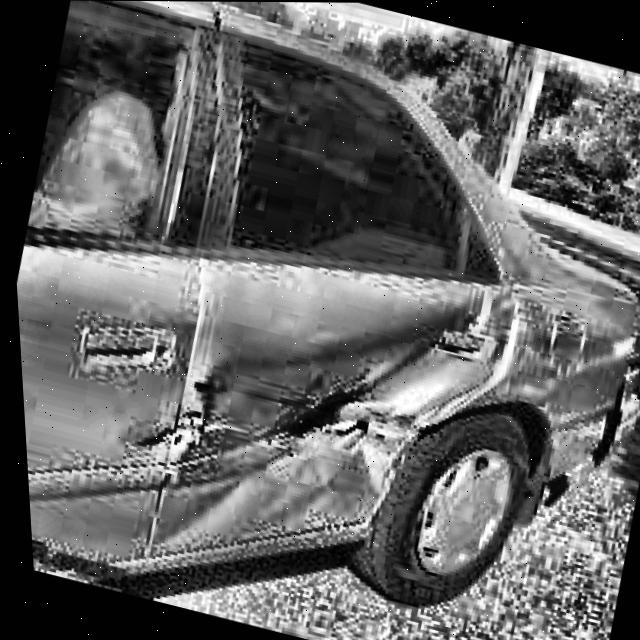door_dent: (261, 368, 420, 487), (123, 361, 230, 474), (416, 286, 517, 382)
